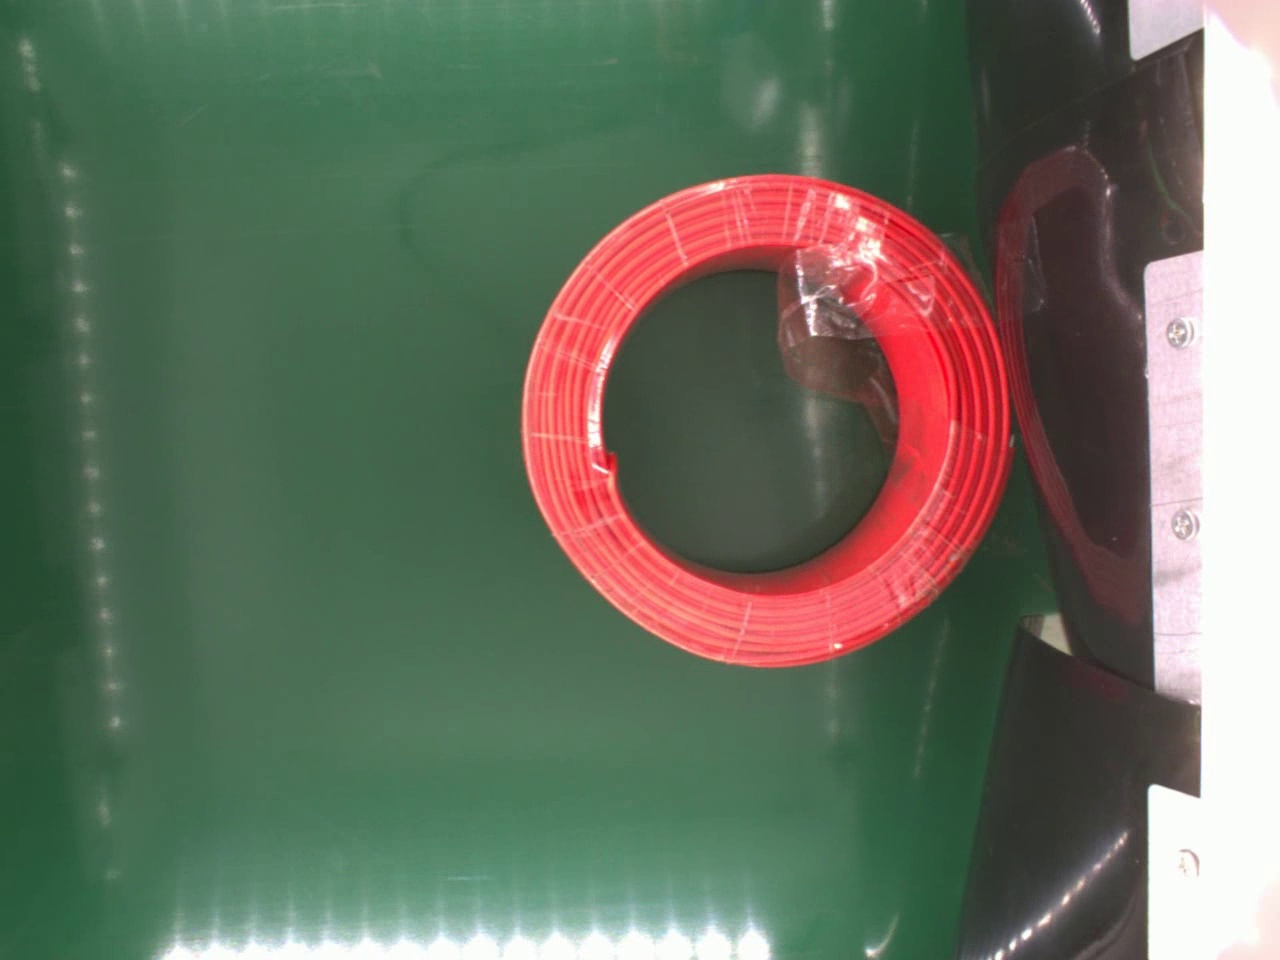red: (516, 168, 1008, 667)
